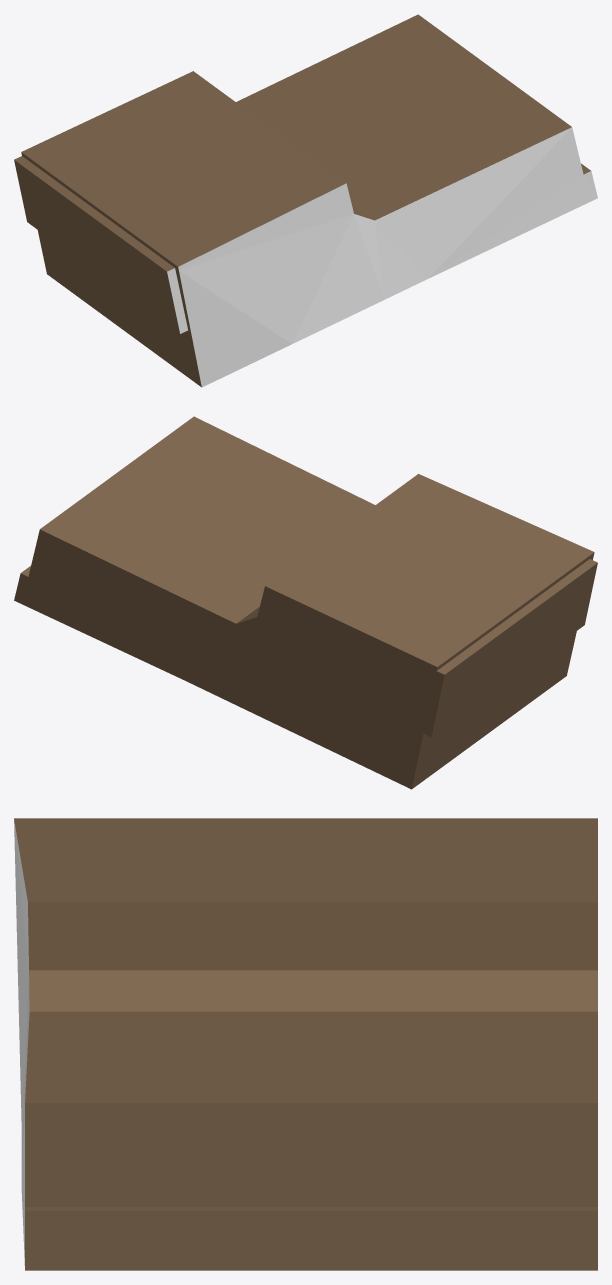
3 views of the same model, one above another, from view 1: azimuth 30°, elevation 25°; view 2: azimuth 150°, elevation 25°; view 3: azimuth 270°, elevation 25° (orthographic). The views are drawn at different scales.
Visible parts, largest first — view 1: City_PC-20843; view 2: City_PC-20843; view 3: City_PC-20843.
Boxes of the visible parts, bbox=[...] form: City_PC-20843: bbox=[14, 14, 597, 387]; City_PC-20843: bbox=[14, 416, 597, 789]; City_PC-20843: bbox=[14, 818, 597, 1270].
Size of the model in its own units: 2622 by 986 by 1658.
